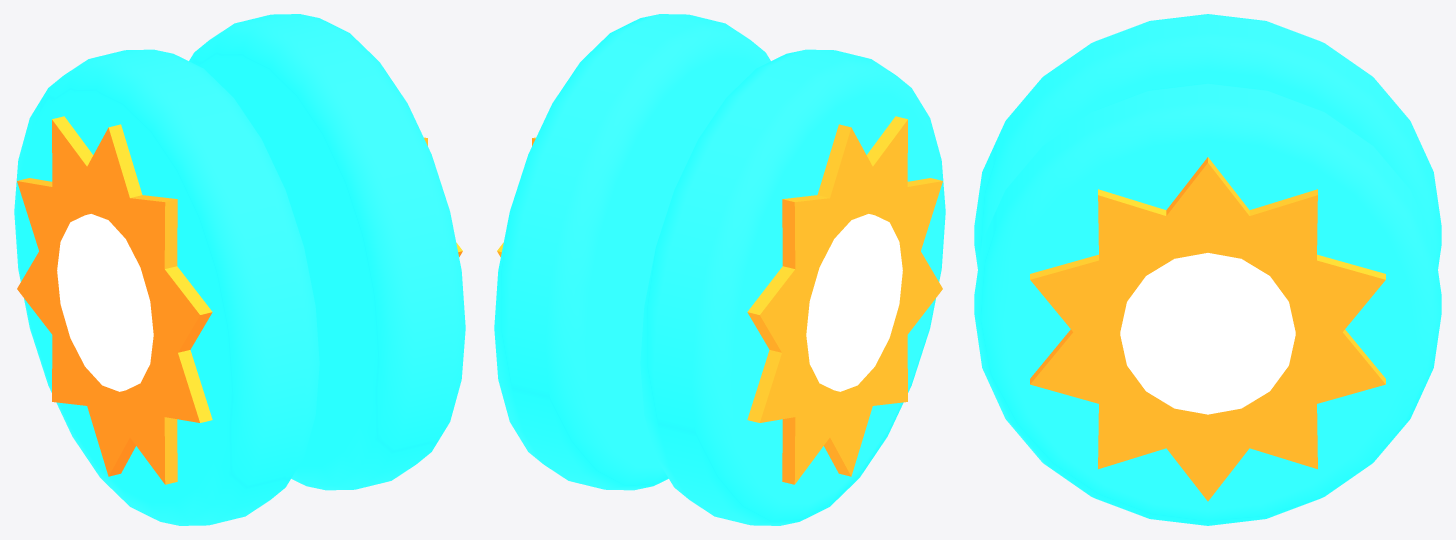
File: PROP_Yoyo.glb
3 views of the same model, side by side, from view 1: azimuth 30°, elevation 25°; view 2: azimuth 150°, elevation 25°; view 3: azimuth 270°, elevation 25° (orthographic). The views are drawn at different scales.
Visible parts, largest first — view 1: Half_1, Half_-1, Sun_-1, Hub_-1; view 2: Half_1, Half_-1, Sun_-1, Hub_-1; view 3: Half_1, Sun_1, Half_-1, Hub_1.
Part boxes in pixels (left/top/right/bottom): Half_1: left=189, top=14, right=465, bottom=490; Half_-1: left=14, top=49, right=319, bottom=525; Sun_-1: left=17, top=116, right=212, bottom=484; Hub_-1: left=57, top=214, right=153, bottom=391; Half_1: left=494, top=14, right=770, bottom=490; Half_-1: left=640, top=49, right=945, bottom=525; Sun_-1: left=747, top=116, right=942, bottom=484; Hub_-1: left=806, top=214, right=902, bottom=391; Half_1: left=974, top=83, right=1441, bottom=525; Sun_1: left=1030, top=157, right=1385, bottom=501; Half_-1: left=974, top=14, right=1441, bottom=268; Hub_1: left=1120, top=253, right=1295, bottom=414.
Bounding box in the file's own units: 0.264 × 0.4 × 0.4.
